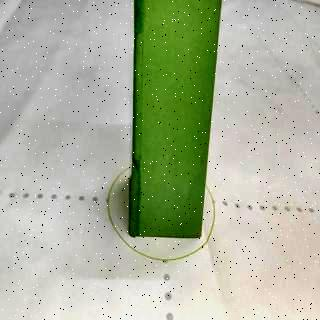greenbox: (128, 0, 206, 239)
